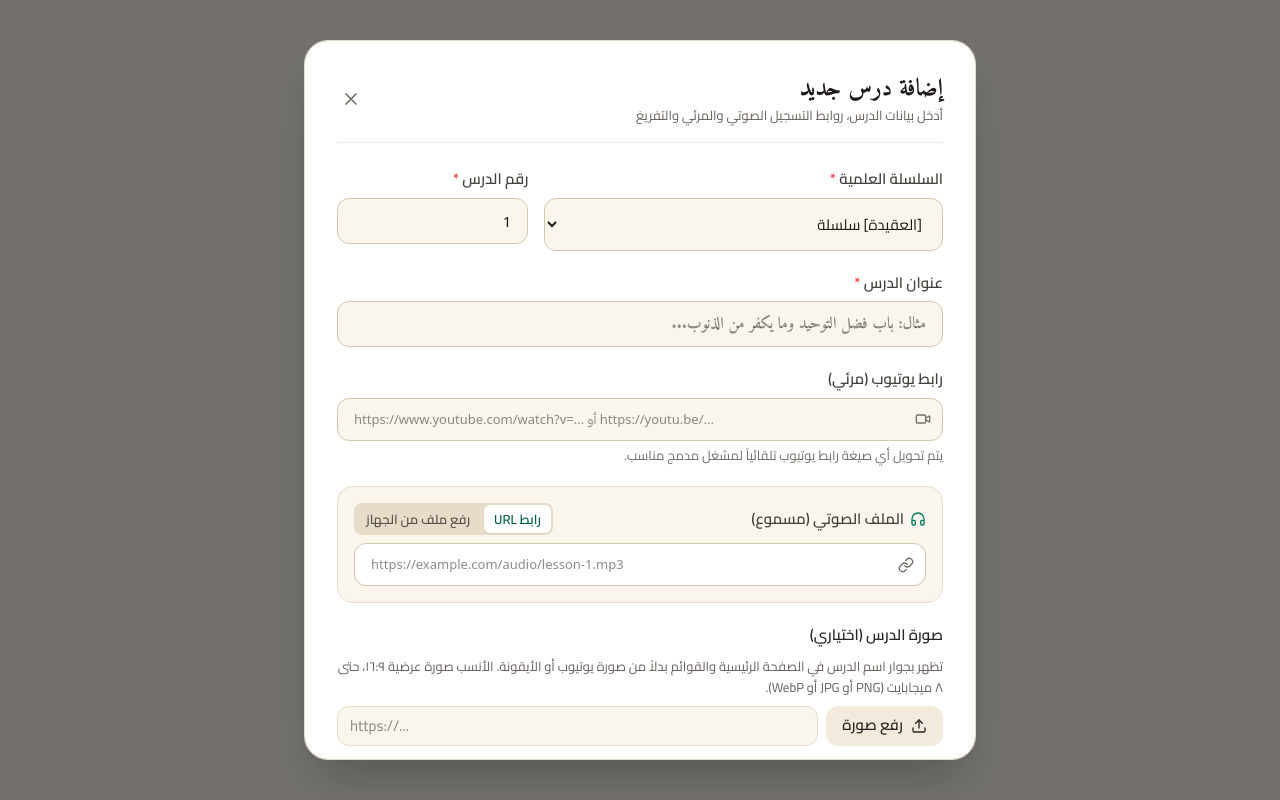
Test: LessonModal › refuses a published lesson with nothing to play or read
Type "درس" into the field with placeholder "مثال: باب فضل التوحيد وما يكفر من الذنوب..." at {"x": 640, "y": 324}, box [337,301,943,347]
(page scrolled)
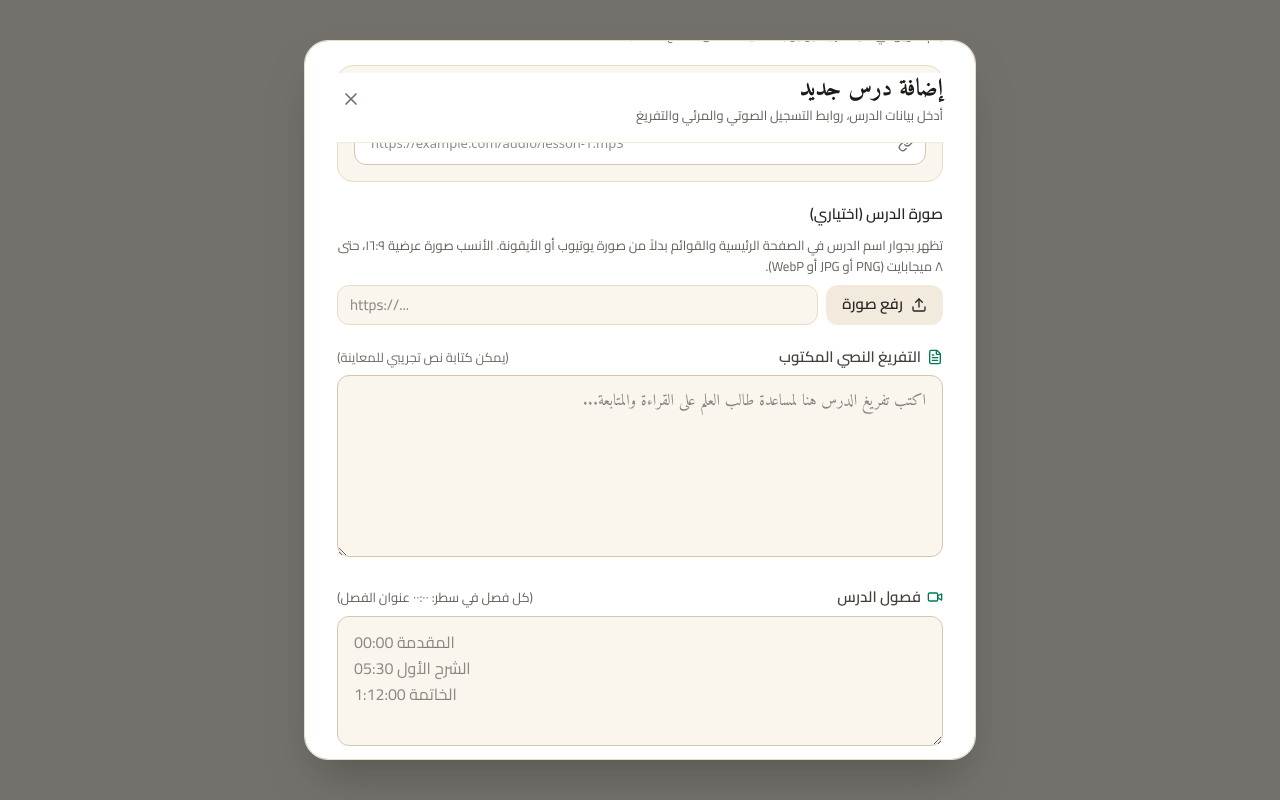
Submit the form
(page scrolled)
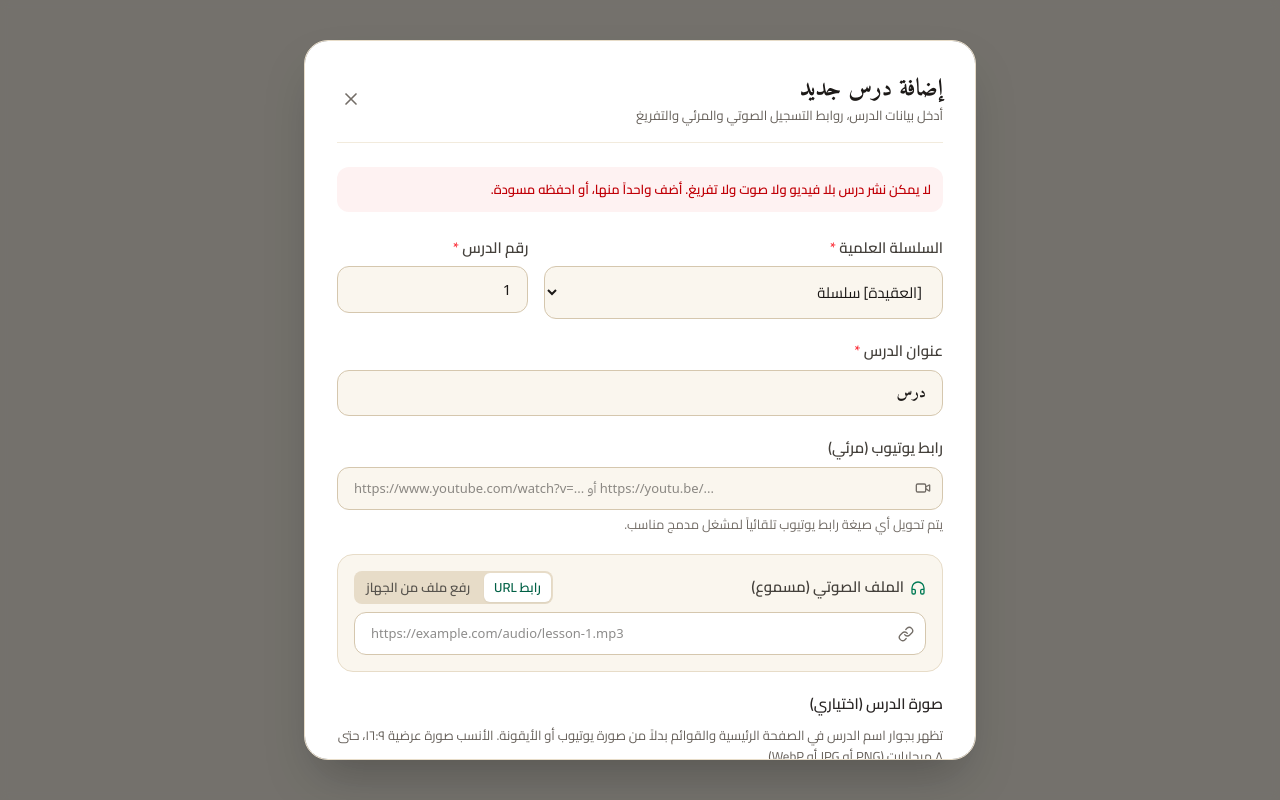
Check: the text "لا يمكن نشر درس بلا فيديو" is shown, box [491,177,931,201]
